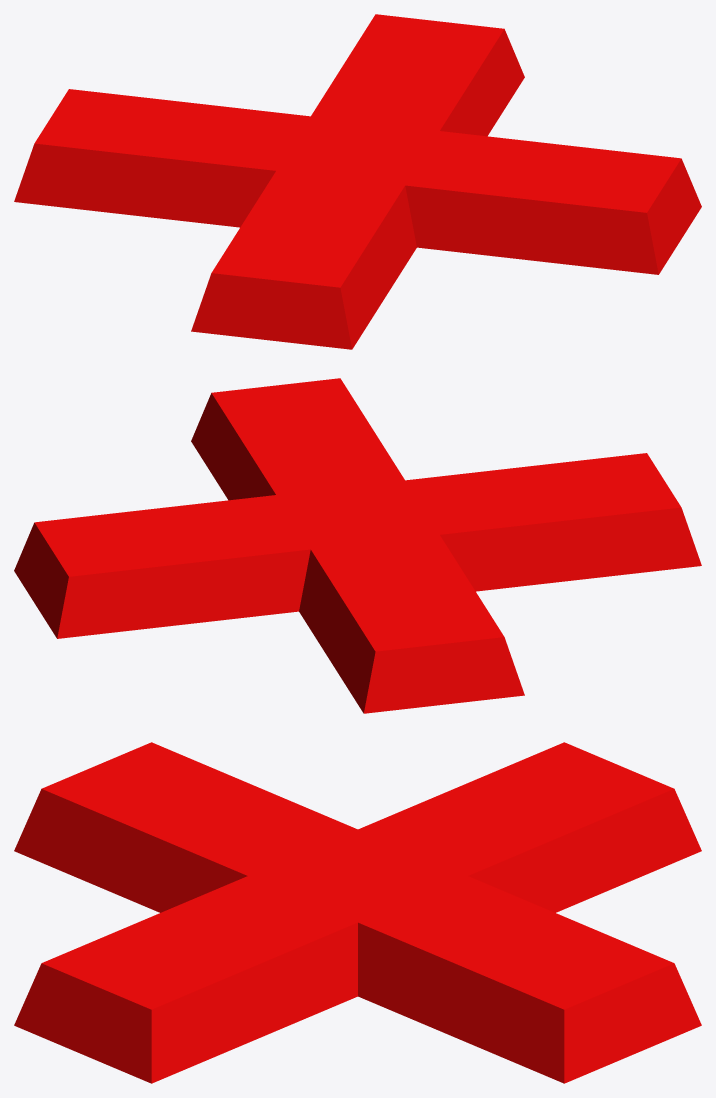
The picture shows the model from 3 angles, top to bottom: view 1: azimuth 30°, elevation 25°; view 2: azimuth 150°, elevation 25°; view 3: azimuth 270°, elevation 25°; orthographic projection. The views are drawn at different scales.
Visible parts, largest first — view 1: Plane; view 2: Plane; view 3: Plane.
Boxes of the visible parts, left/top/right/bottom form: Plane: left=14, top=14, right=701, bottom=349; Plane: left=14, top=378, right=701, bottom=713; Plane: left=14, top=742, right=701, bottom=1083.
Bounding box in the file's own units: 1 × 0.1 × 1.
